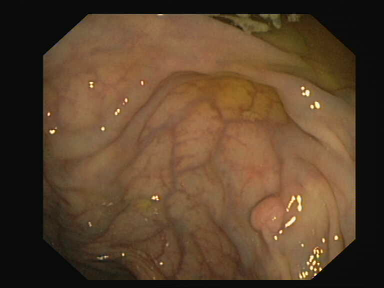polyp: (237, 177, 299, 241)
